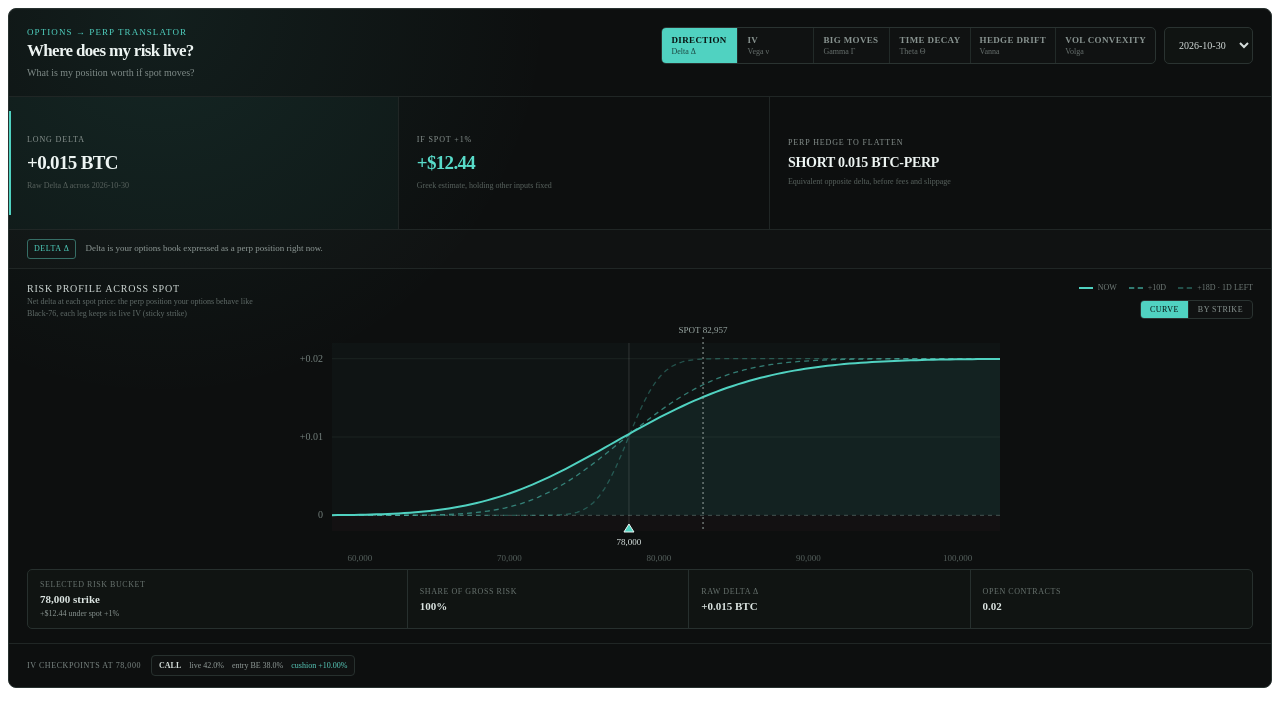
Scenario: PortfolioVegaCurve › draws vol convexity against IV shocks instead of spot
Click the button "Vol convexity Volga": [1106, 46] box [1056, 28, 1155, 63]
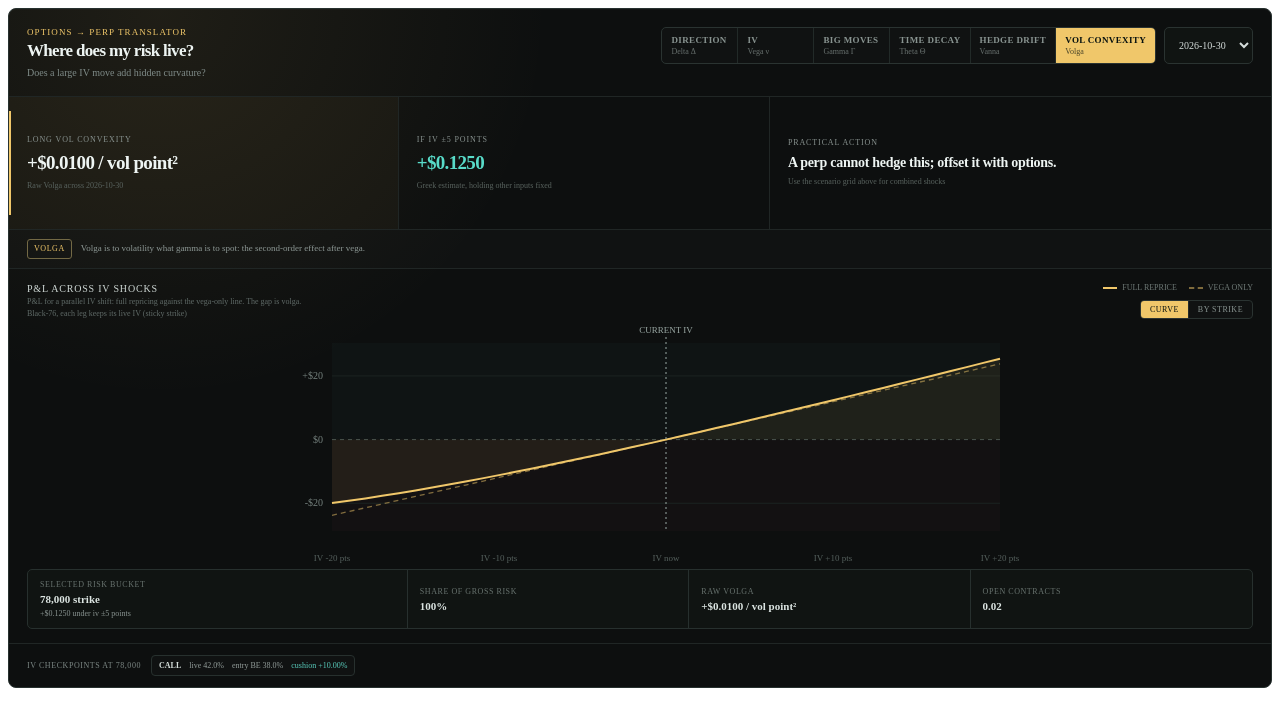
Result: the text "P&L across IV shocks" is shown at [27, 283, 158, 294]
Result: the text "Full reprice" is shown at [1103, 283, 1177, 292]
Result: the text "Vega only" is shown at [1189, 283, 1253, 292]
